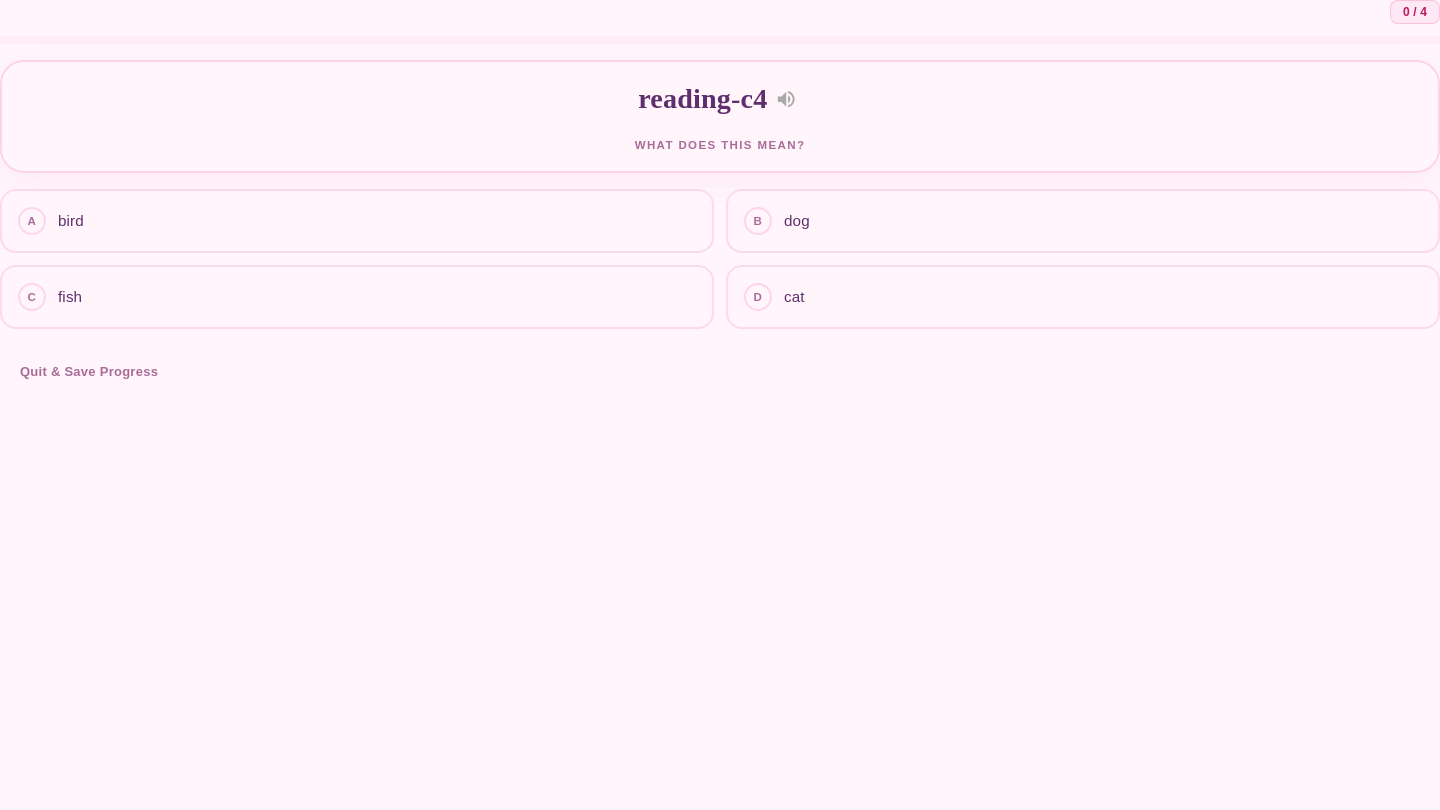
Test: RecallMode › teaching on a miss › still advances on its own timer when the pick is correct
Click the button "A bird": [32, 221] box [0, 189, 714, 253]
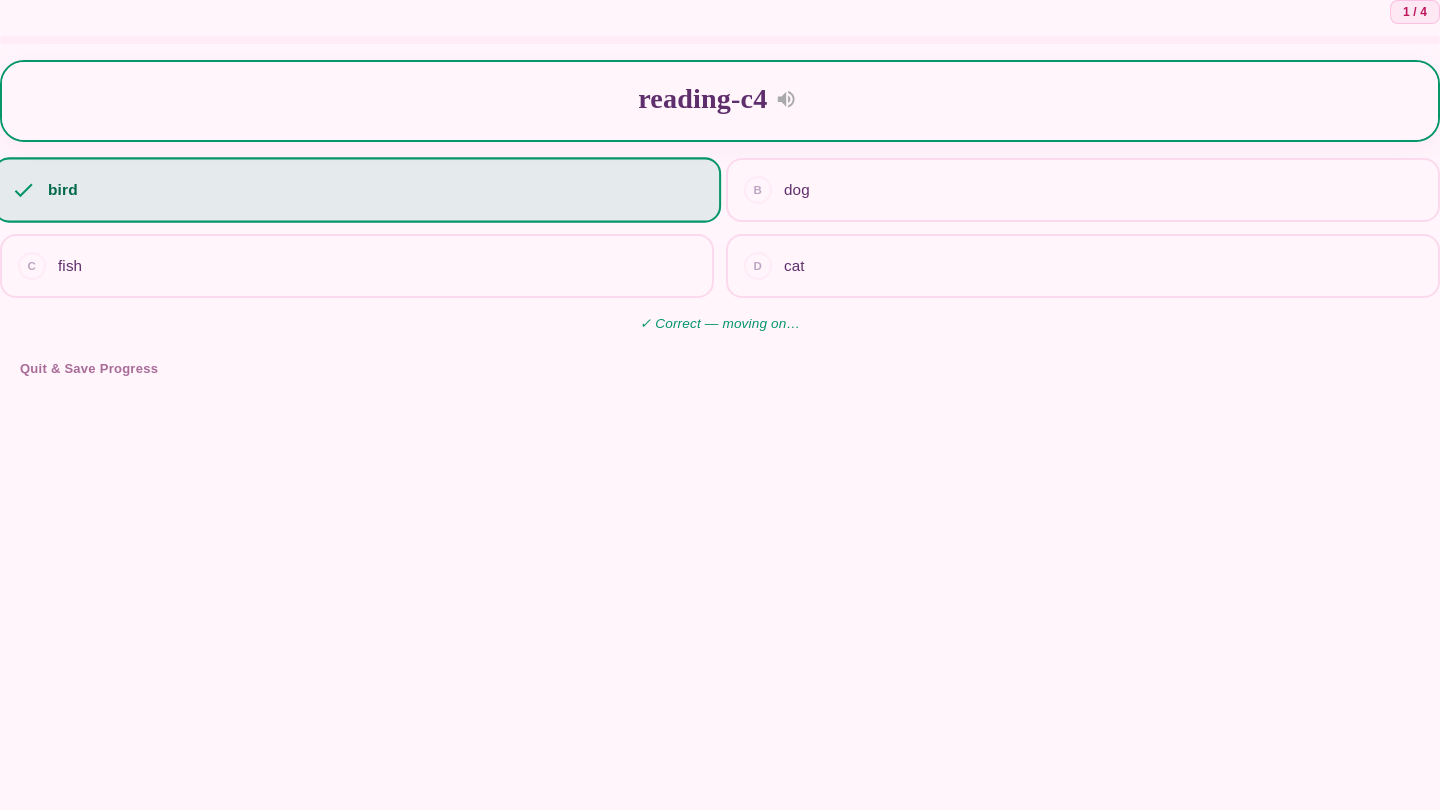
Check: the text "✓ Correct — moving on…" is shown, box [640, 316, 800, 331]
